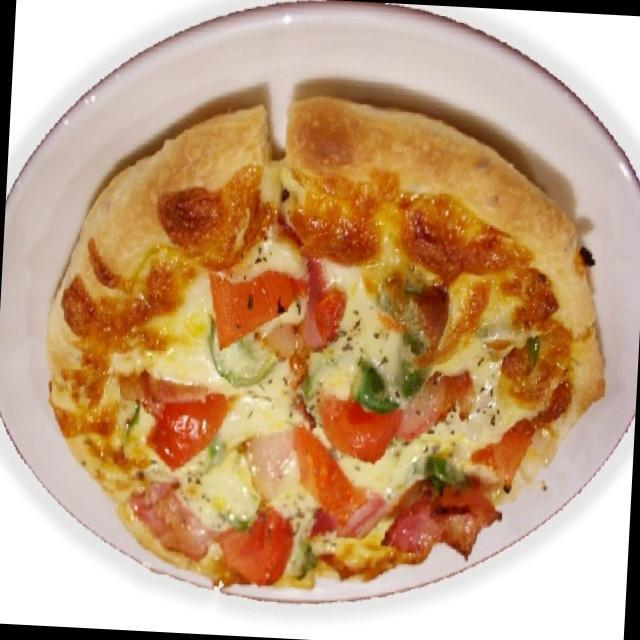Pizza: (26, 82, 604, 634)
